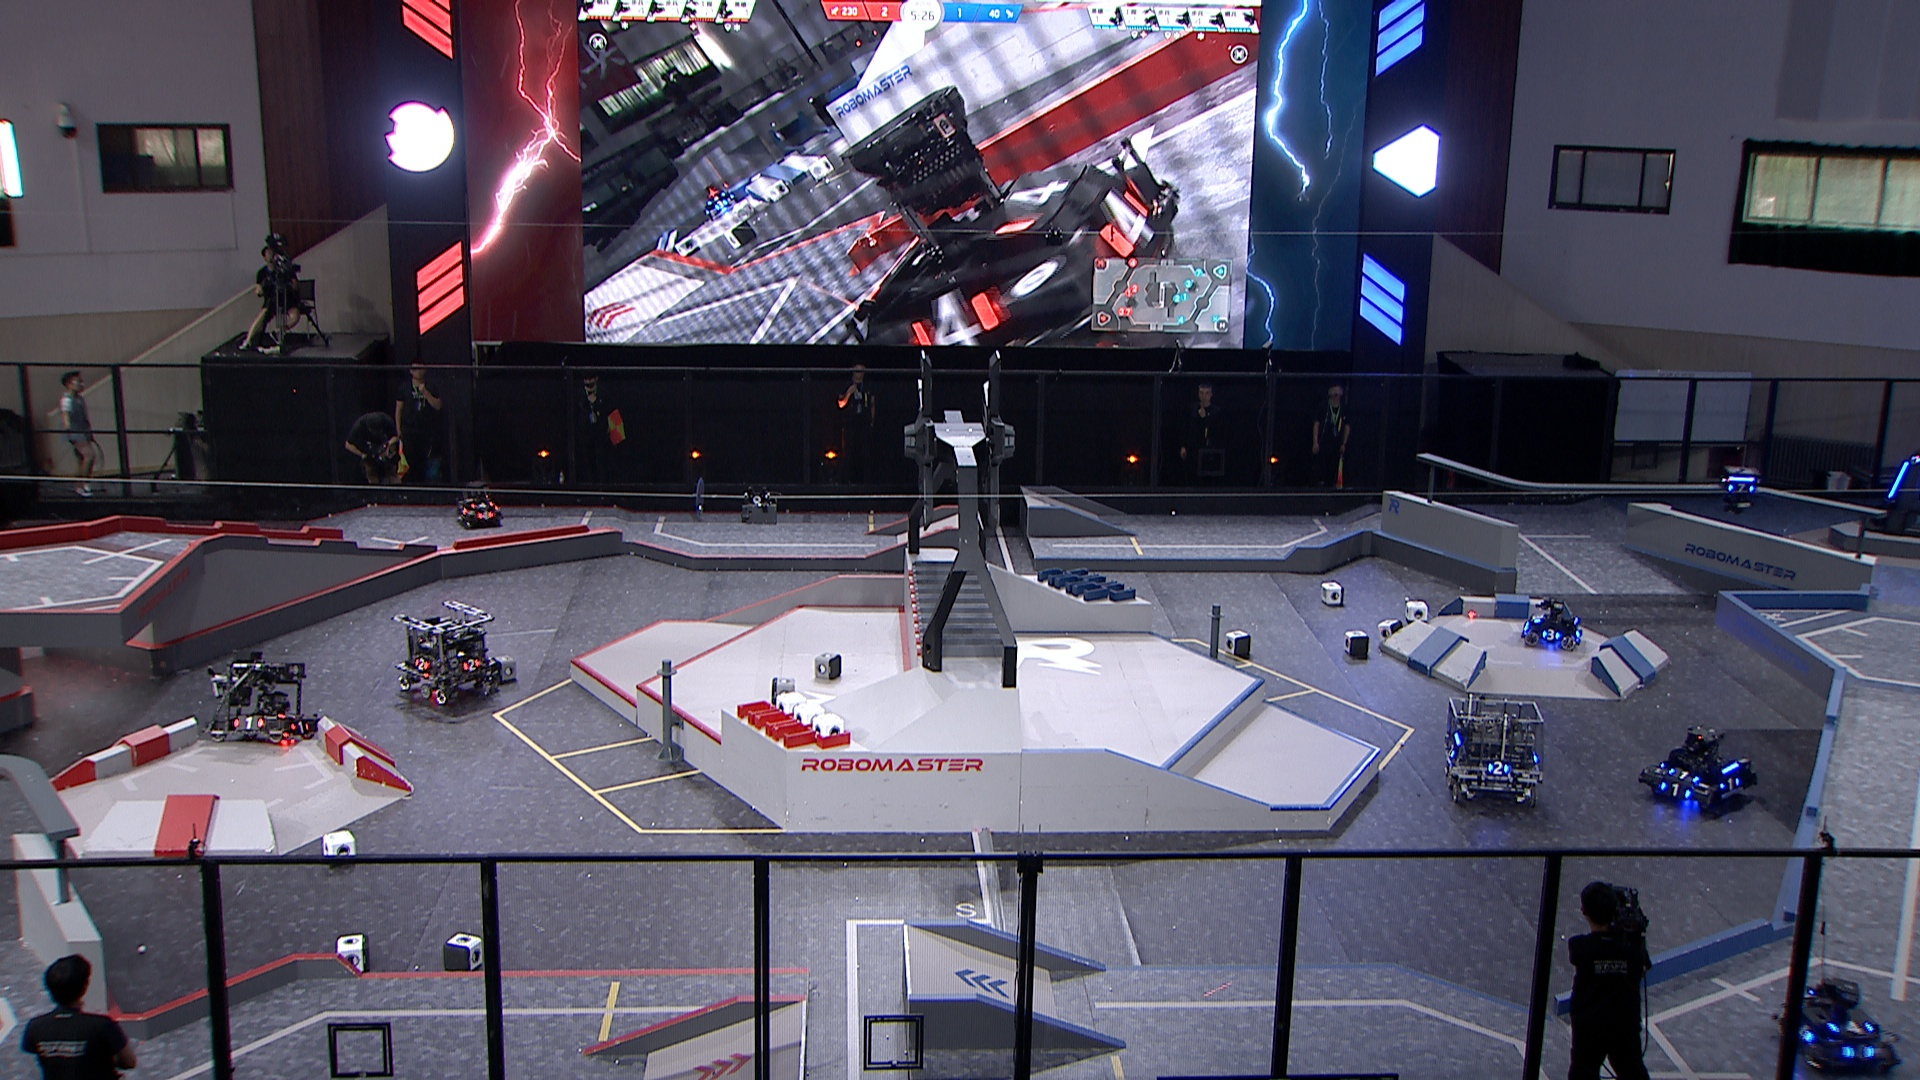armor: (1888, 460, 1909, 501), (1826, 1021, 1876, 1036), (1660, 779, 1695, 802), (233, 713, 266, 733), (1669, 765, 1700, 785), (1842, 1043, 1873, 1063), (1487, 761, 1513, 777), (1727, 481, 1755, 495), (1797, 1025, 1816, 1044), (1720, 777, 1741, 793), (1542, 626, 1563, 642), (413, 657, 433, 673), (468, 500, 495, 510), (462, 659, 480, 674), (289, 721, 311, 733), (1447, 744, 1460, 761), (477, 510, 496, 522), (1532, 612, 1544, 626)
base: (1865, 458, 1920, 541)
car: (1768, 971, 1903, 1077), (1444, 695, 1552, 808), (207, 645, 320, 746), (396, 600, 500, 705), (1640, 727, 1756, 808), (1520, 597, 1582, 651), (455, 481, 505, 527)
ignore: (836, 83, 1183, 344), (705, 187, 737, 222)
watcher: (1718, 465, 1762, 520)
